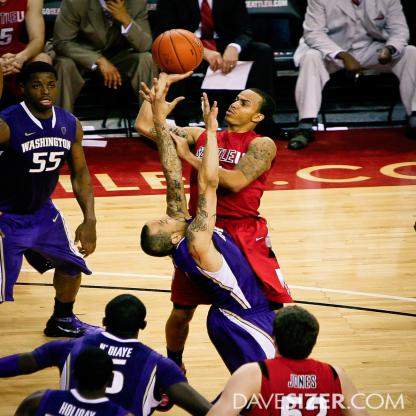Ball: (152, 29, 202, 72)
